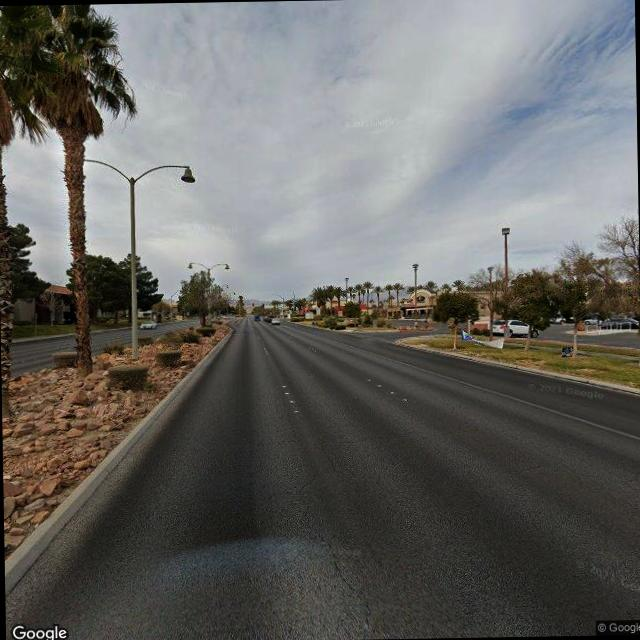pothole: (318, 529, 376, 636)
